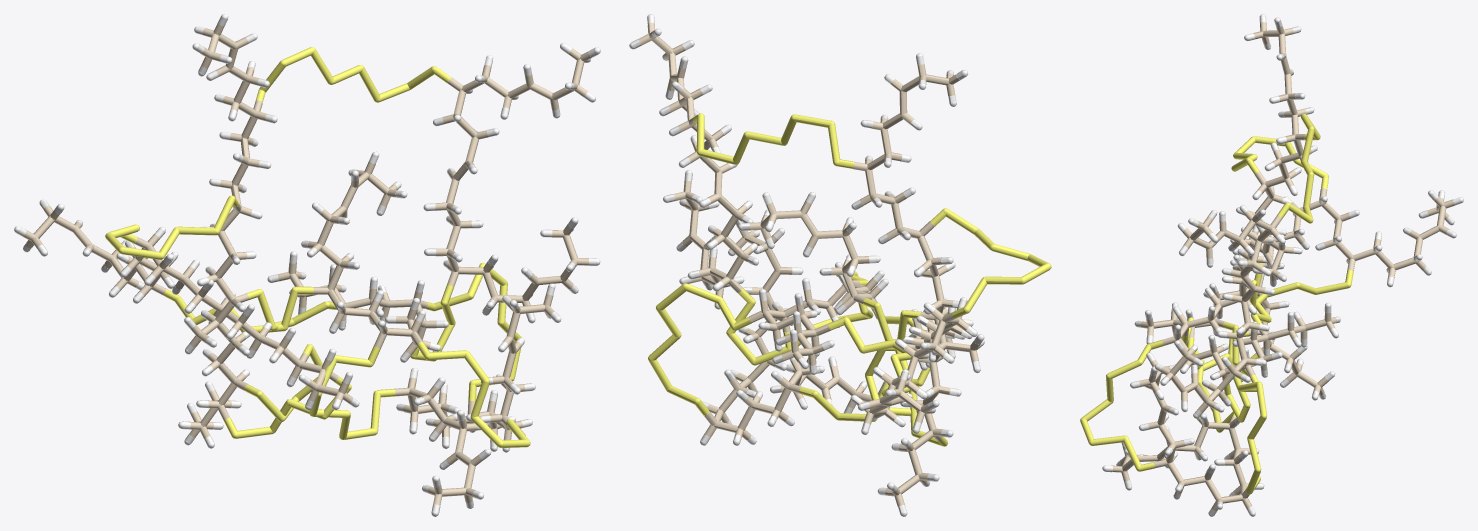
Rendered from Elastomer_Stick.glb.
The picture shows the model from 3 angles, left to right: view 1: azimuth 30°, elevation 25°; view 2: azimuth 150°, elevation 25°; view 3: azimuth 270°, elevation 25°; orthographic projection. The views are drawn at different scales.
Bounding box in the file's own units: 0.8501 × 0.8505 × 0.7293.
